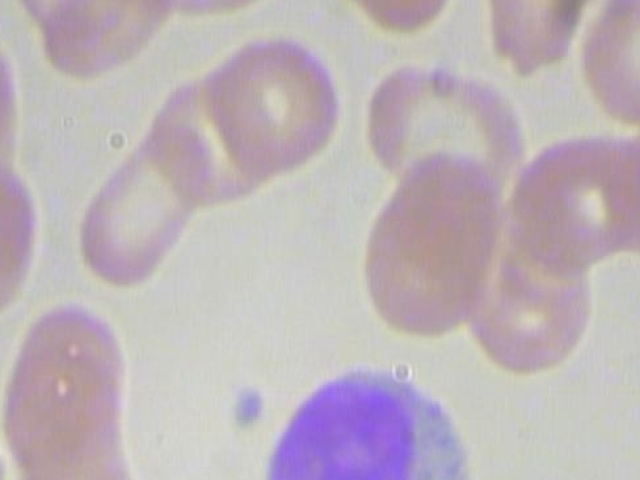Platelets: (229, 386, 271, 434)
RBC: (353, 148, 500, 352), (59, 116, 218, 290), (359, 59, 533, 211), (458, 200, 601, 375), (197, 28, 352, 182), (38, 0, 180, 87), (576, 0, 640, 140), (0, 151, 42, 325), (313, 0, 469, 46), (0, 398, 6, 480)
WBC: (259, 357, 483, 480)
